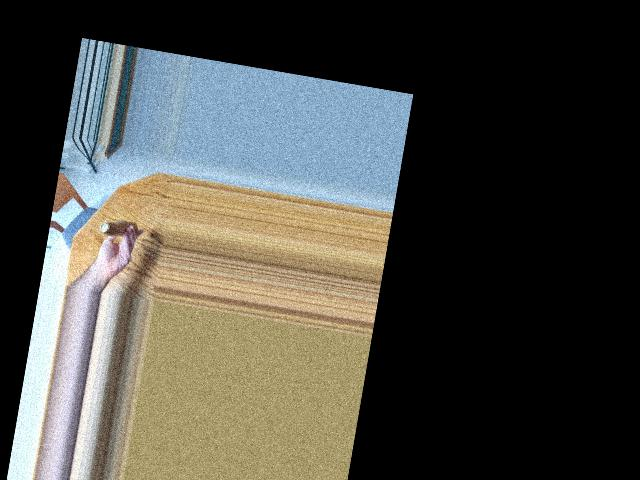sweet_potato: (103, 216, 139, 235)
